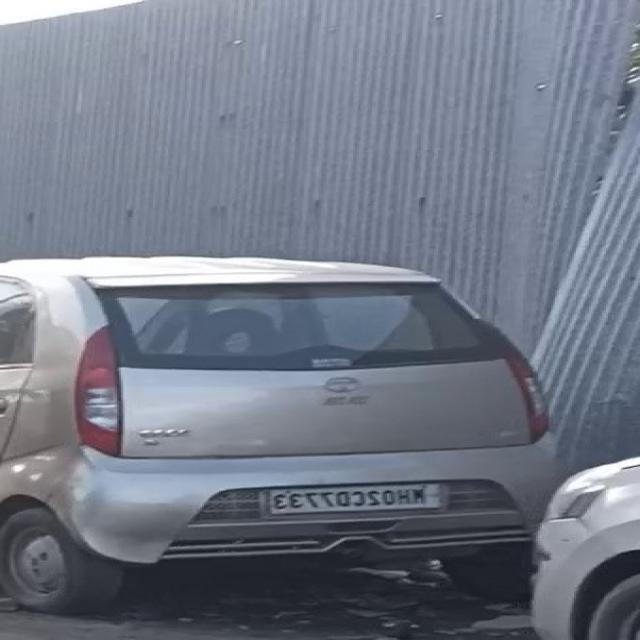license_plate: (257, 478, 451, 522)
